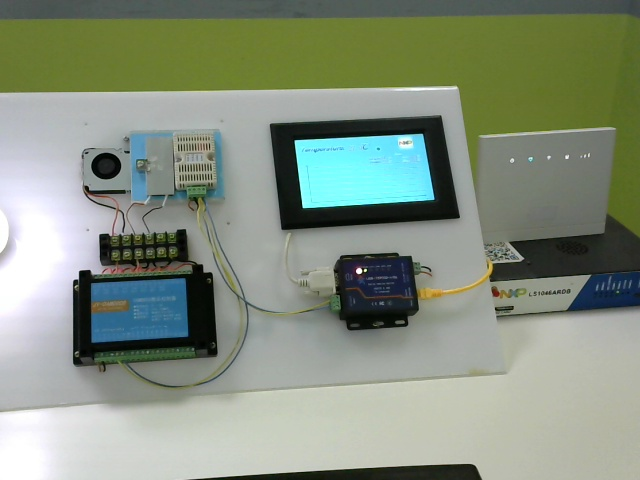fan: (79, 141, 133, 195)
heater: (143, 133, 175, 205)
modbus bridge: (334, 245, 426, 340)
relay: (75, 263, 225, 371)
termperature: (177, 130, 223, 207)
